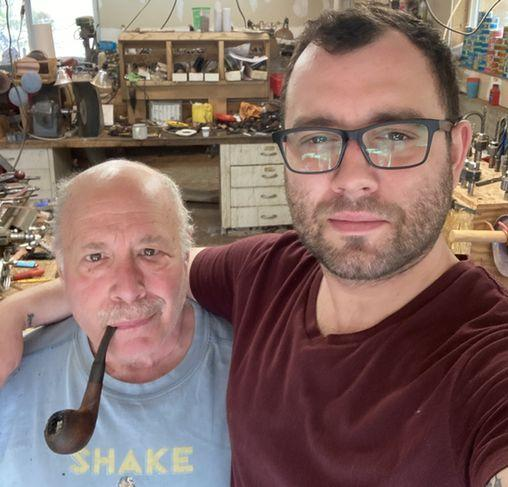trubka: (44, 327, 114, 454)
